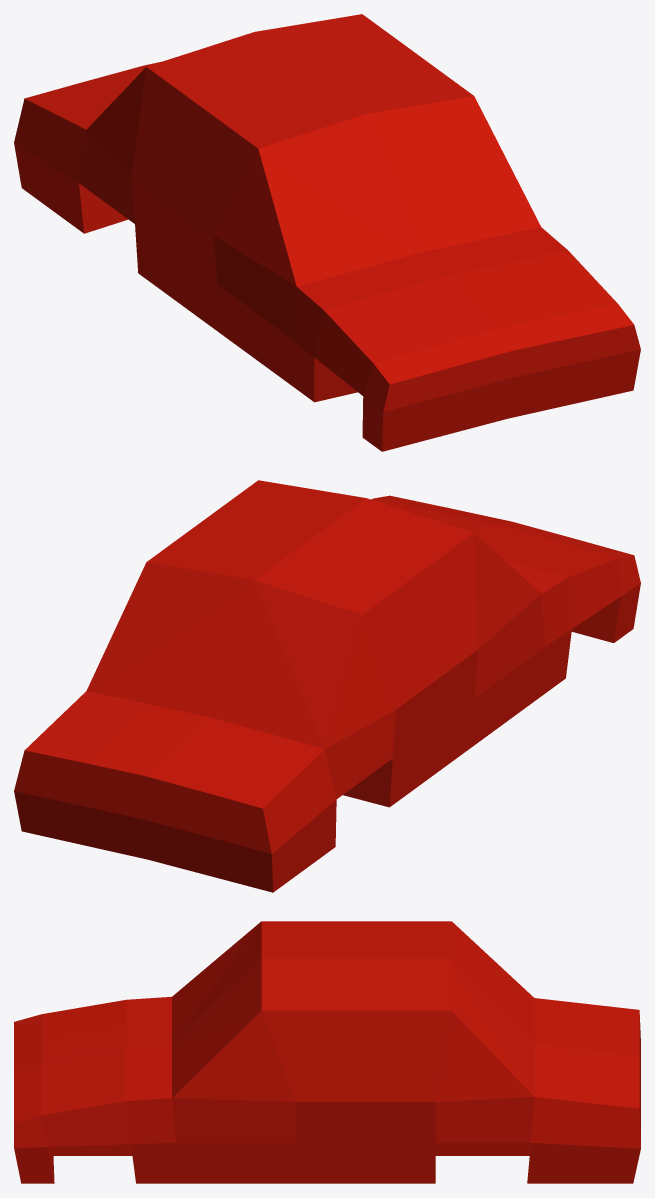
The model's file is Standard.obj.
The picture shows the model from 3 angles, top to bottom: view 1: azimuth 30°, elevation 25°; view 2: azimuth 150°, elevation 25°; view 3: azimuth 270°, elevation 25°; orthographic projection. The views are drawn at different scales.
Parts seen in each view (by area): view 1: Cube; view 2: Cube; view 3: Cube.
Boxes of the visible parts, left/top/right/bottom form: Cube: left=14, top=14, right=640, bottom=451; Cube: left=14, top=480, right=640, bottom=892; Cube: left=14, top=921, right=640, bottom=1183.
Bounding box in the file's own units: 2.75 × 2.02 × 6.65.
